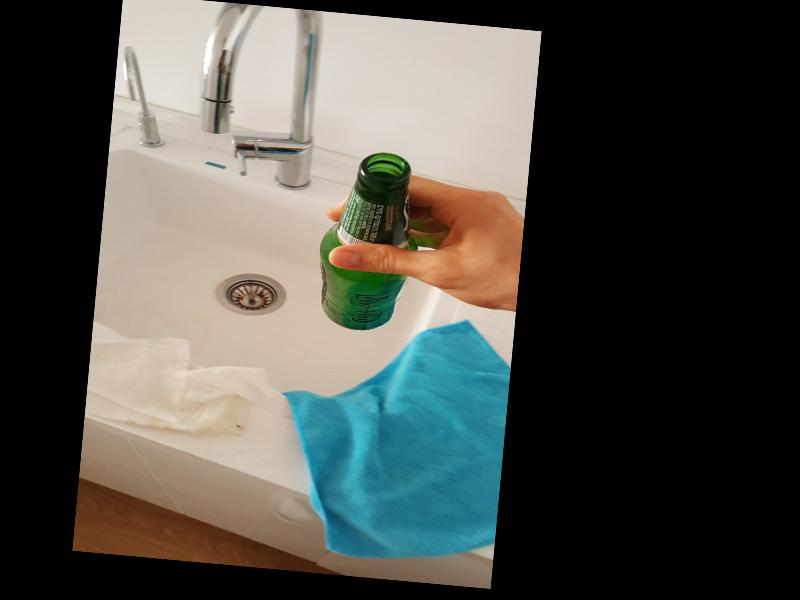Beer: (311, 148, 423, 335)
